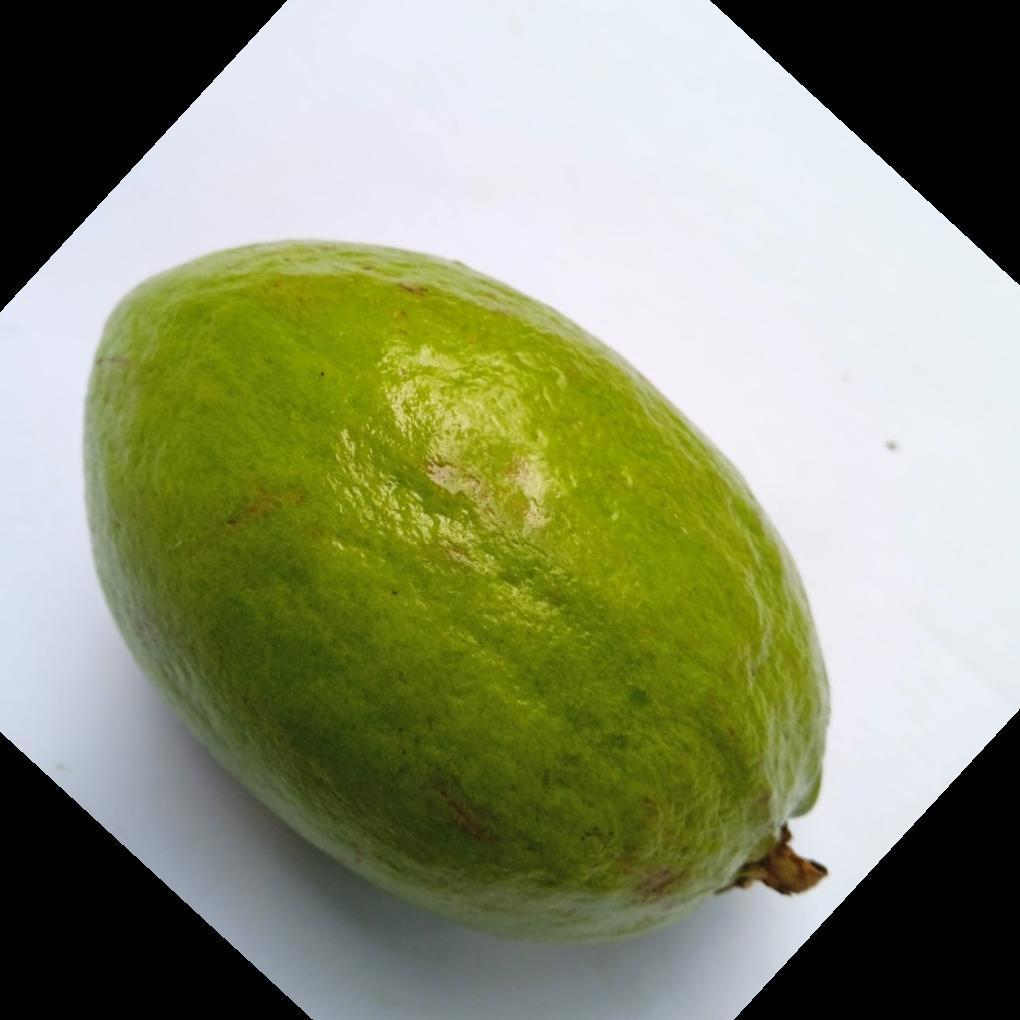FreshGuava: (82, 239, 833, 949)
